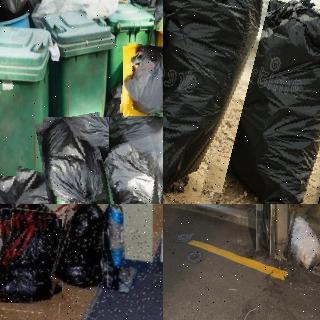Garbage: (212, 0, 320, 204), (163, 0, 261, 204), (39, 114, 112, 204), (0, 215, 67, 306), (54, 204, 106, 288), (98, 139, 163, 204), (0, 171, 93, 204), (121, 44, 163, 117), (283, 213, 320, 269), (0, 204, 12, 274)
